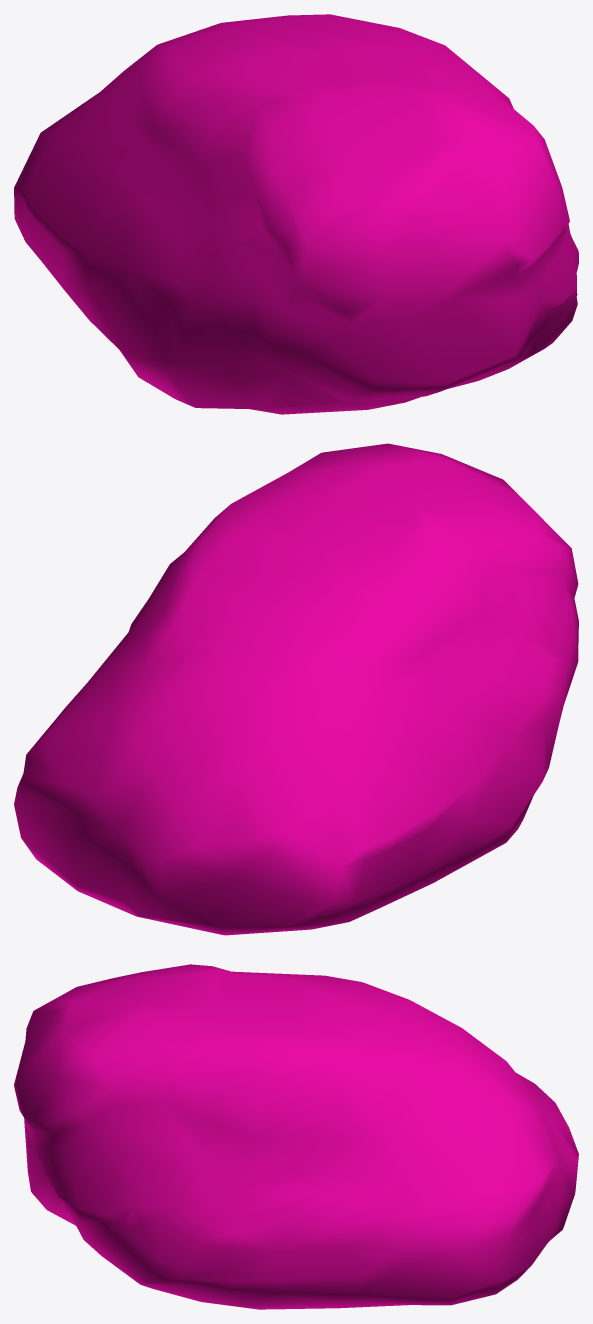
The model's file is Rock_04_Lod0.fbx.
3 renders of one model, top to bottom at view 1: azimuth 30°, elevation 25°; view 2: azimuth 150°, elevation 25°; view 3: azimuth 270°, elevation 25°, orthographic. The views are drawn at different scales.
Visible parts, largest first — view 1: Rock_04_Lod0; view 2: Rock_04_Lod0; view 3: Rock_04_Lod0.
Boxes of the visible parts, box(x1,y1,x2,y2) form: Rock_04_Lod0: box(14, 14, 578, 414); Rock_04_Lod0: box(14, 443, 578, 935); Rock_04_Lod0: box(14, 964, 578, 1309).
Bounding box in the file's own units: 3920 × 3033 × 5637.
